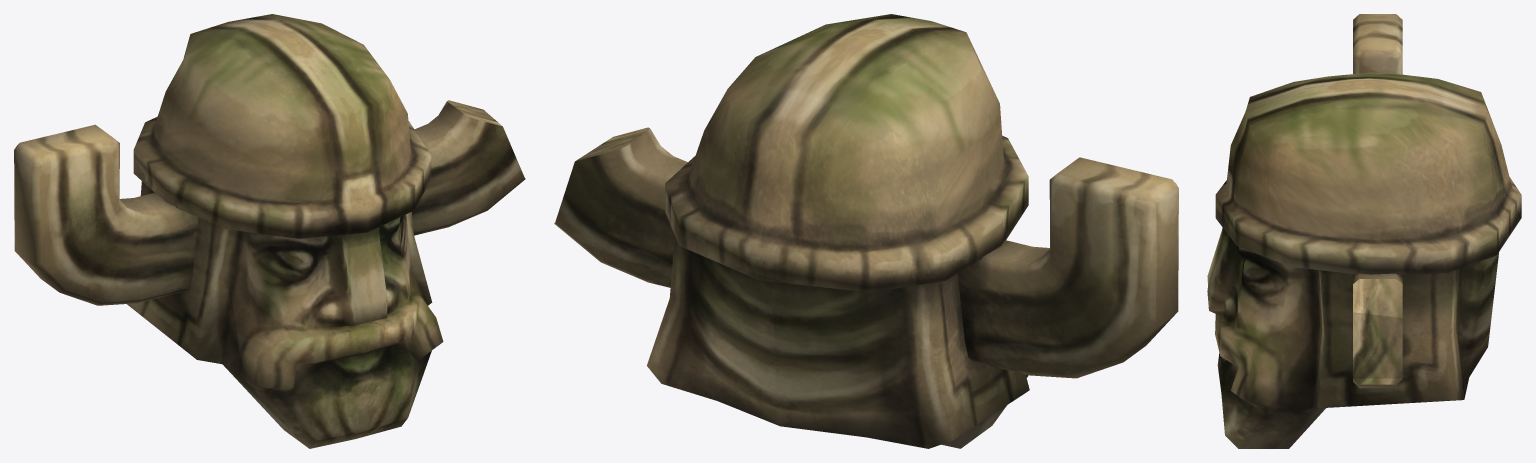
File: statue head.FBX
The picture shows the model from 3 angles, left to right: view 1: azimuth 30°, elevation 25°; view 2: azimuth 150°, elevation 25°; view 3: azimuth 270°, elevation 25°; orthographic projection. The views are drawn at different scales.
Parts seen in each view (by area): view 1: statue head; view 2: statue head; view 3: statue head.
Part boxes in pixels (left/top/right/bottom): statue head: left=14, top=14, right=525, bottom=448; statue head: left=554, top=14, right=1178, bottom=448; statue head: left=1207, top=14, right=1521, bottom=448.
Bounding box in the file's own units: 2.23 × 1.53 × 1.26.
